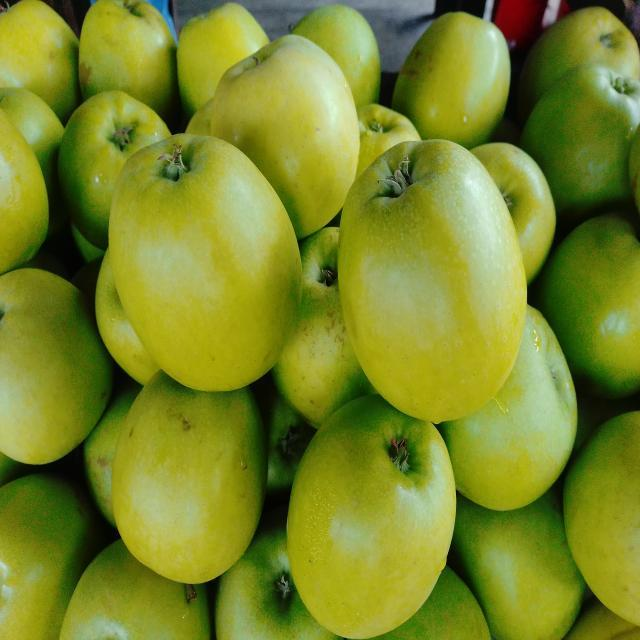Fresh Apple: (107, 144, 313, 394), (333, 158, 537, 408), (292, 420, 470, 627), (127, 385, 270, 598)
